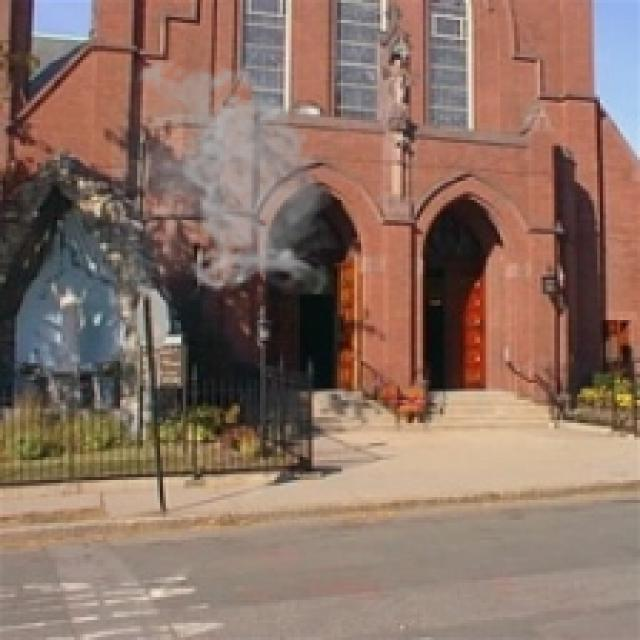smoke: (111, 52, 340, 294)
